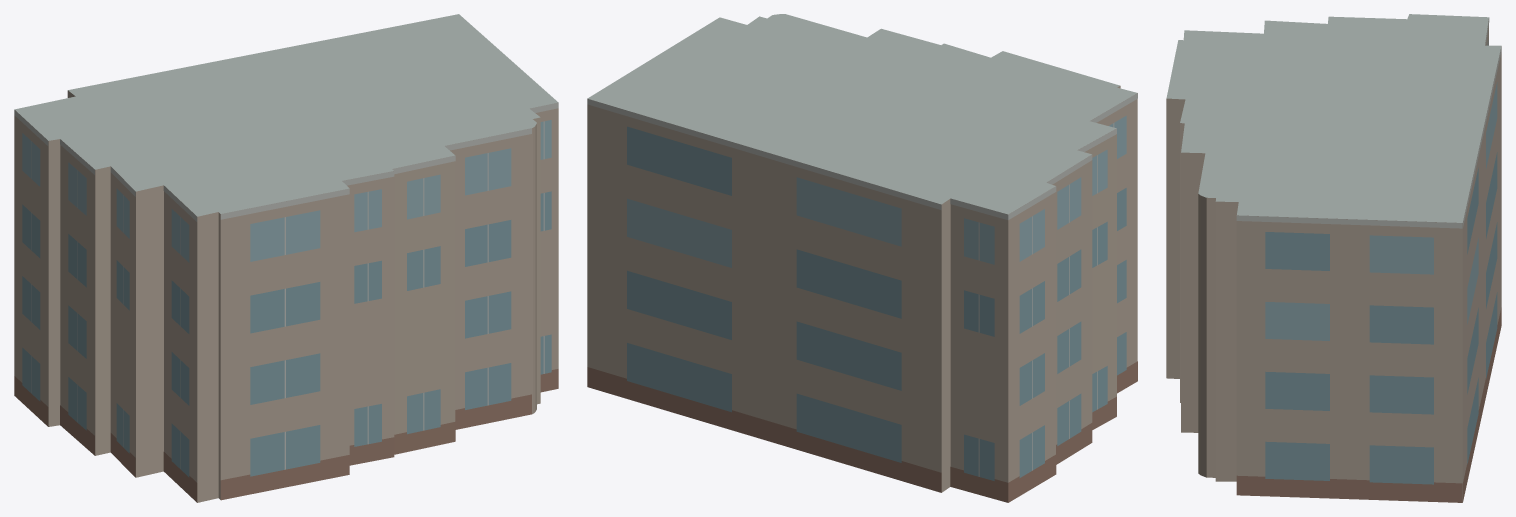
The model's file is survey-upis-32928344.glb.
3 views of the same model, side by side, from view 1: azimuth 30°, elevation 25°; view 2: azimuth 150°, elevation 25°; view 3: azimuth 270°, elevation 25° (orthographic). The views are drawn at different scales.
Visible parts, largest first — view 1: survey-upis-32928344.tmp; view 2: survey-upis-32928344.tmp; view 3: survey-upis-32928344.tmp.
Part boxes in pixels (x1,y1,x2,y2): survey-upis-32928344.tmp: (14,14,558,502); survey-upis-32928344.tmp: (587,14,1137,502); survey-upis-32928344.tmp: (1166,14,1501,502).
Bounding box in the file's own units: 19.55 × 12.2 × 13.25.
